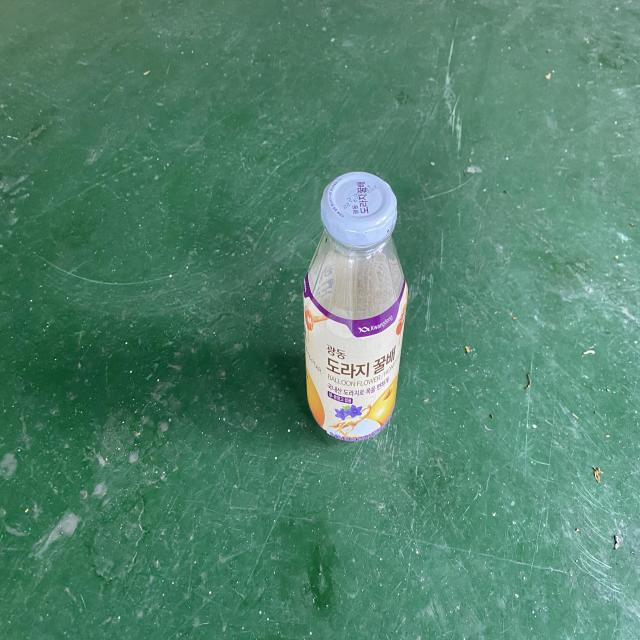glass: (304, 171, 408, 441)
